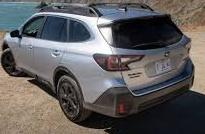SUV: (1, 3, 194, 122)
